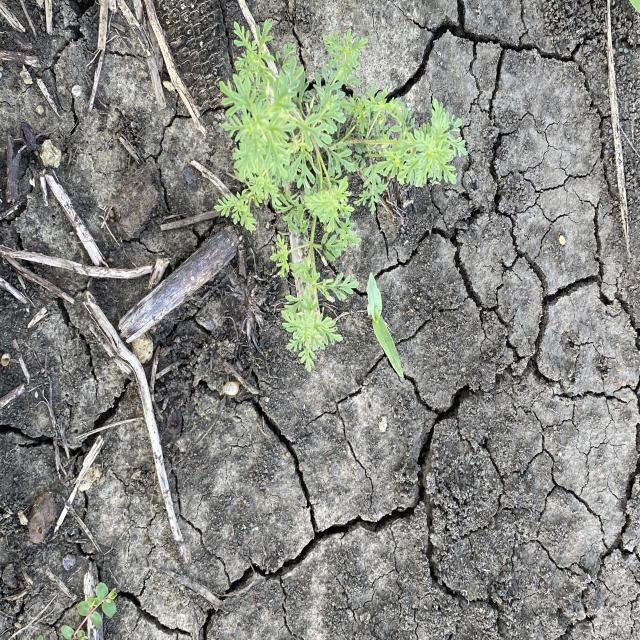Ragweed: (214, 15, 470, 375)
SpottedSpurge: (33, 580, 119, 638)
